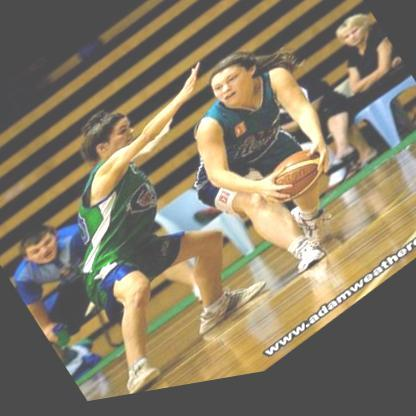basketball: (257, 145, 334, 224)
